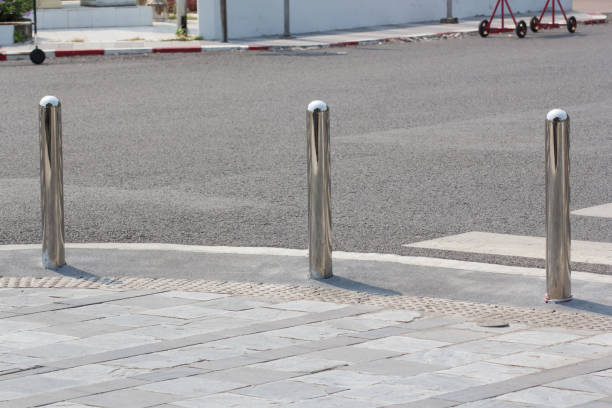bollard: (540, 102, 580, 308), (32, 92, 76, 271), (303, 94, 337, 279)
